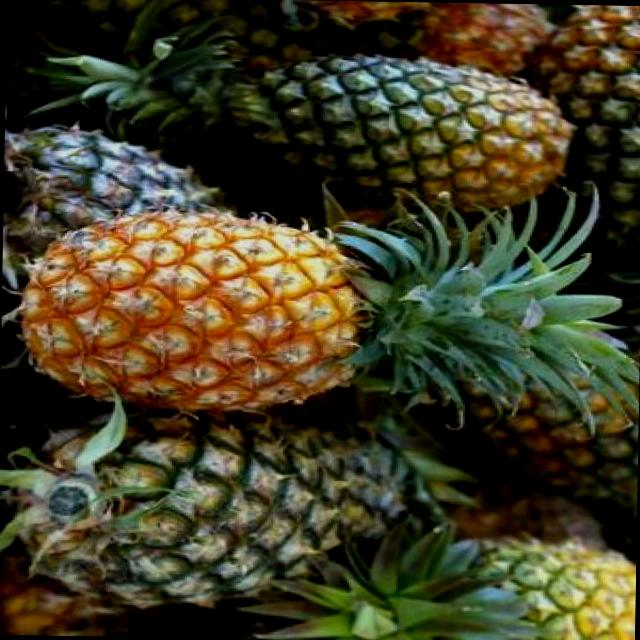pineapple: (18, 204, 464, 416), (0, 410, 390, 620), (162, 51, 579, 210), (590, 184, 592, 186)
